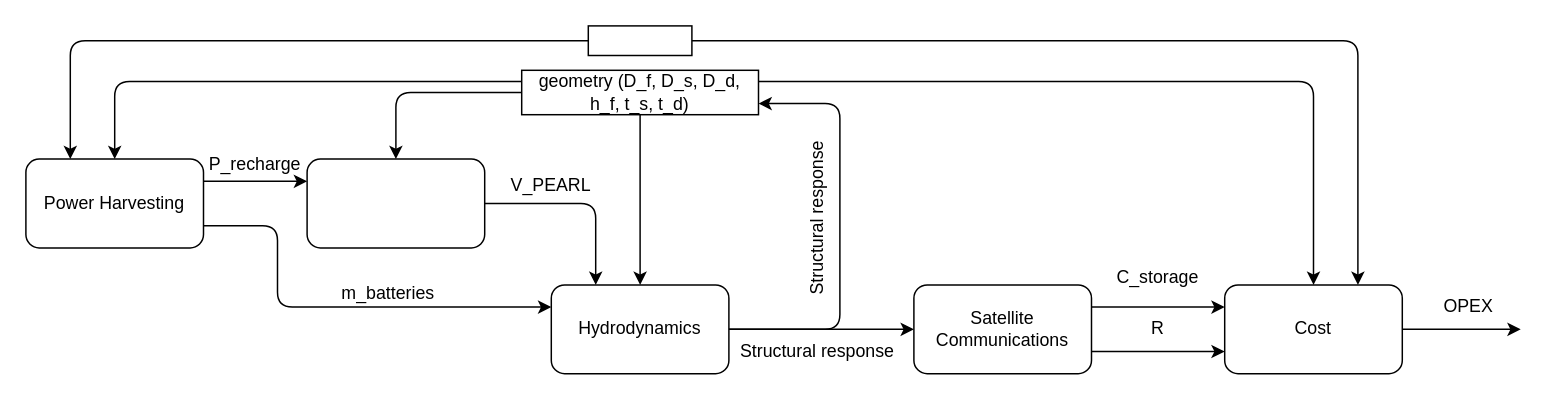
Image size: 1558x400. Some labels were removed from this diagram. The centre of each missing label's shape, as x and y in pixels:
gamma: point (639, 40)
Propulsion: point (395, 203)
